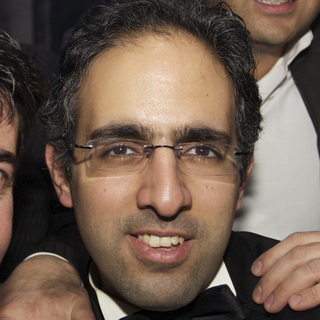eye: (98, 140, 148, 164), (177, 140, 224, 164)
